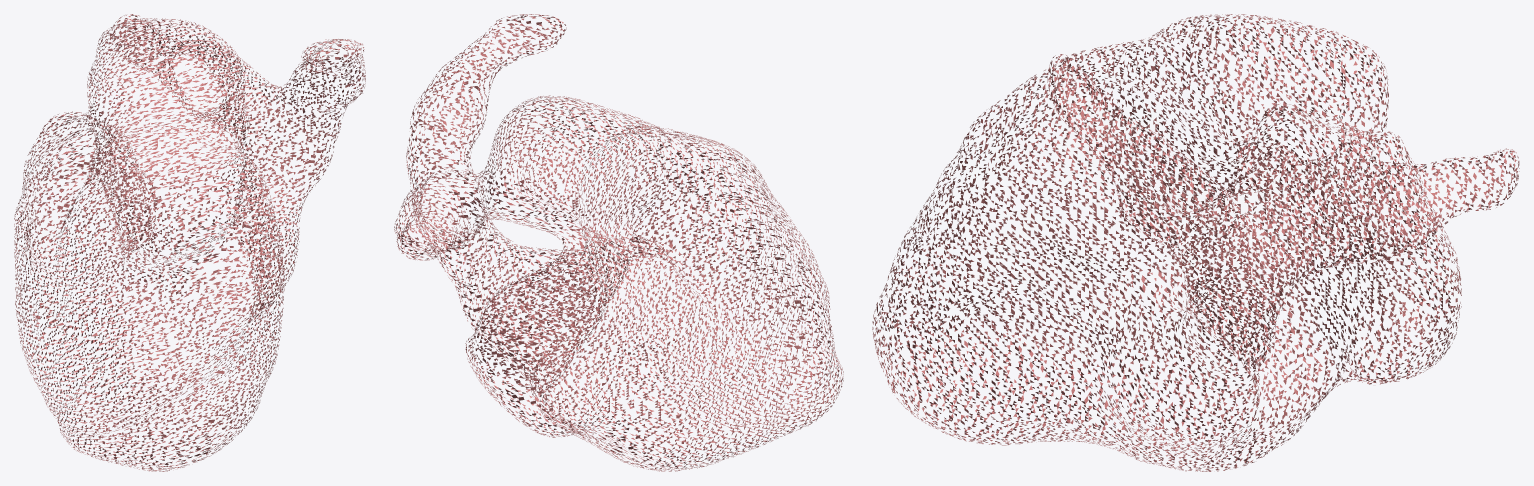
The model's file is heart.glb.
3 views of the same model, side by side, from view 1: azimuth 30°, elevation 25°; view 2: azimuth 150°, elevation 25°; view 3: azimuth 270°, elevation 25° (orthographic). The views are drawn at different scales.
Bounding box in the file's own units: 117 × 116 × 137.
